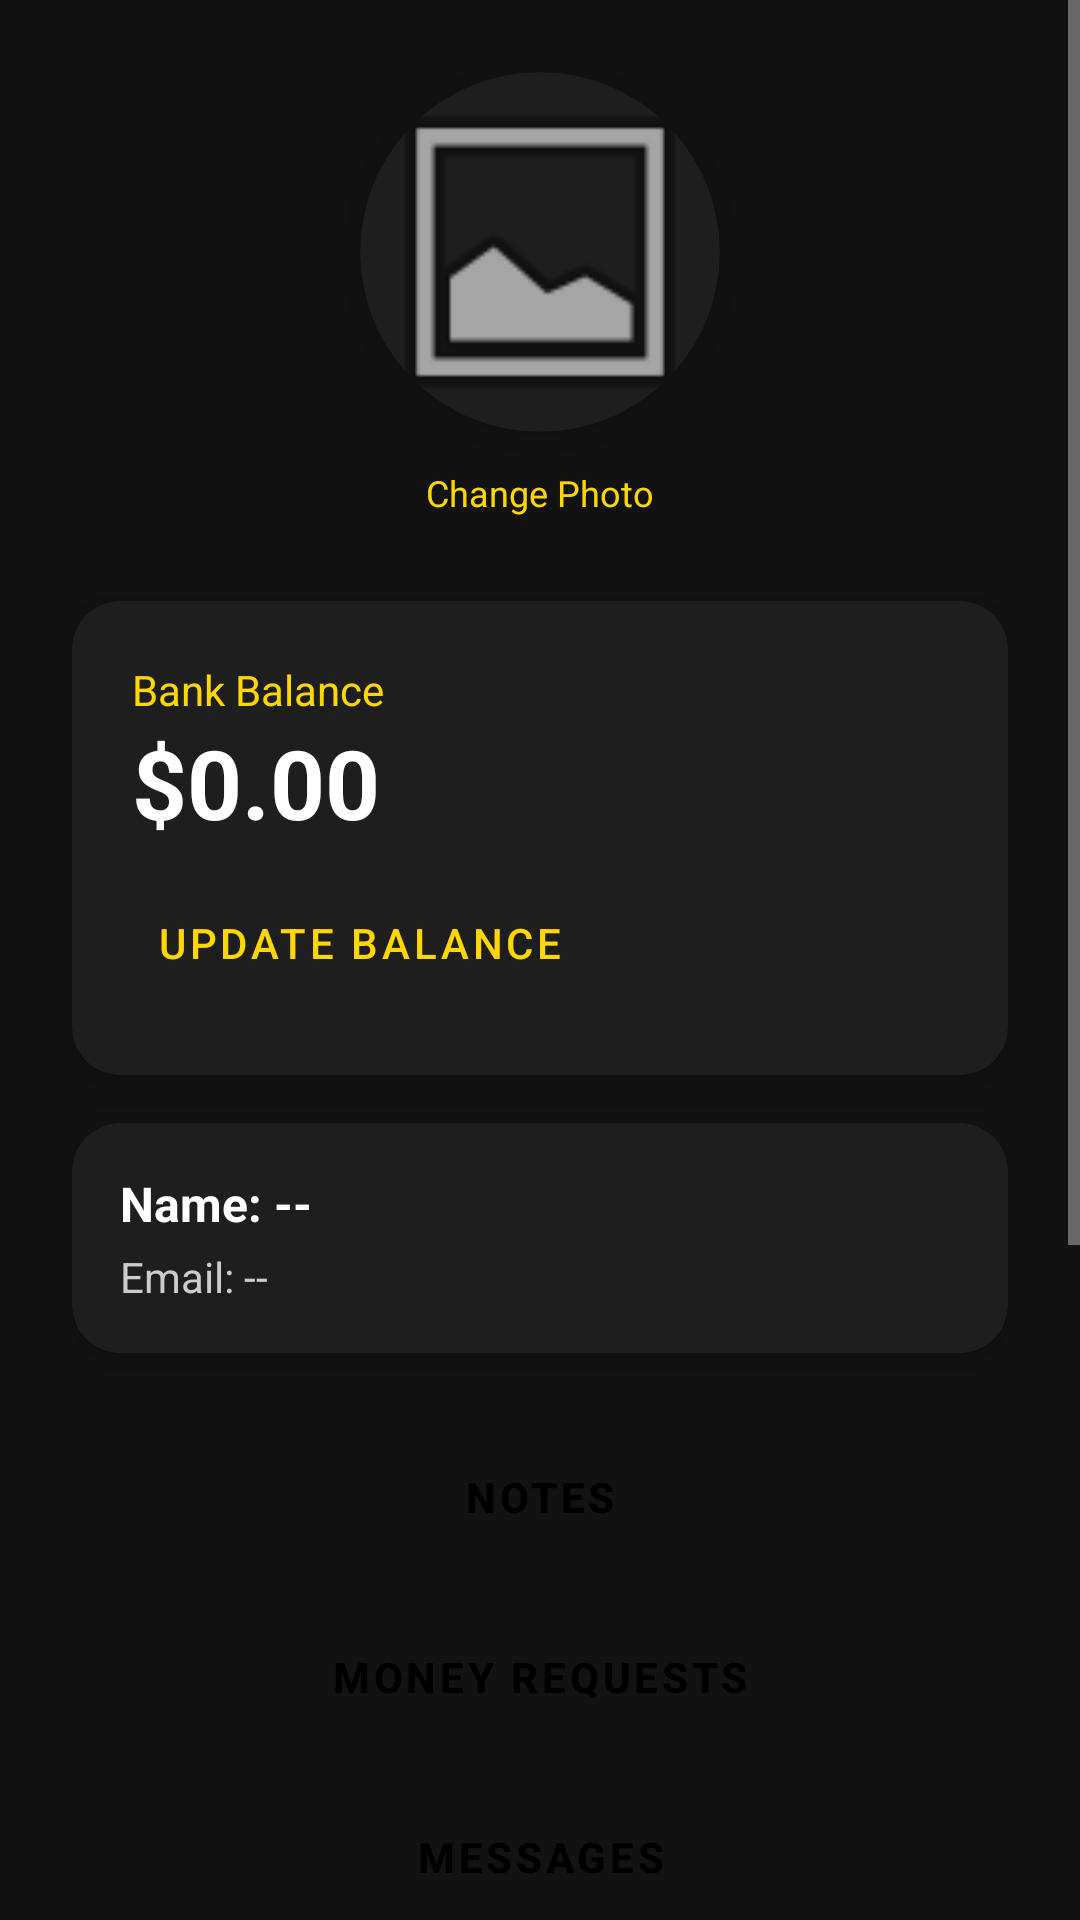

Icon click points for this 1080*1920 phone screenshot, format (x,y):
gallery: (540,252)
